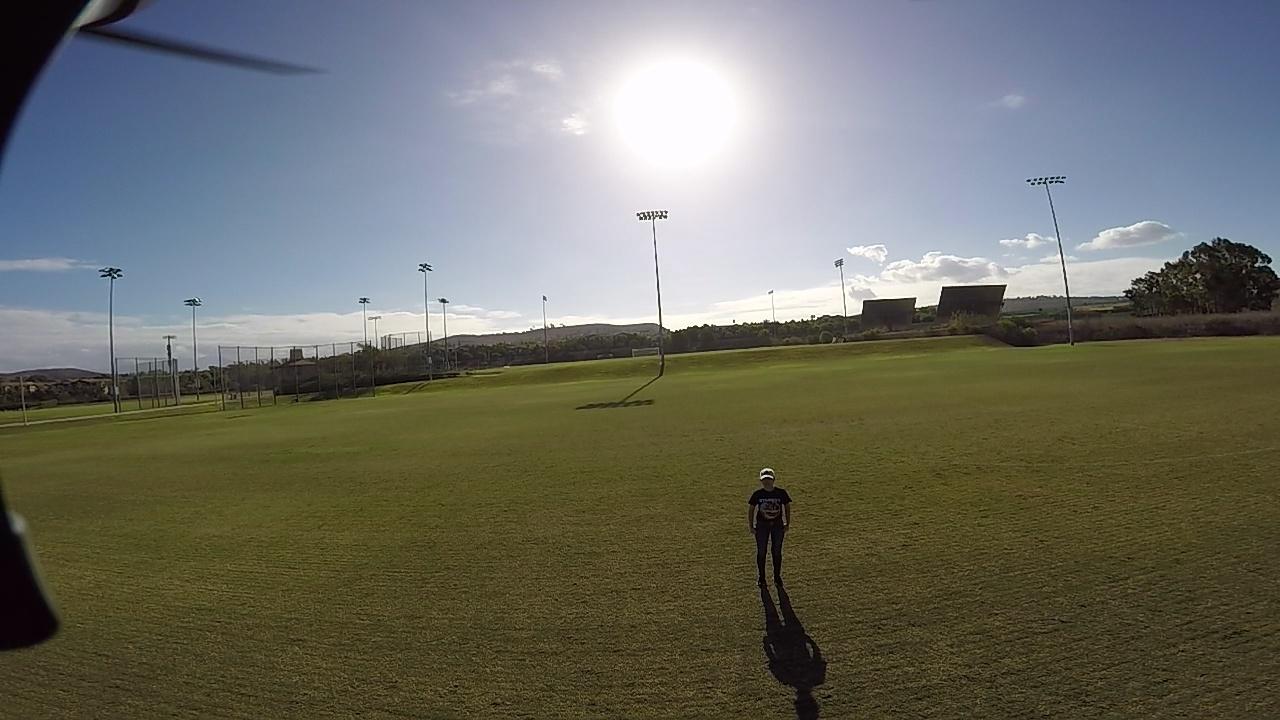person: (744, 466, 791, 608)
